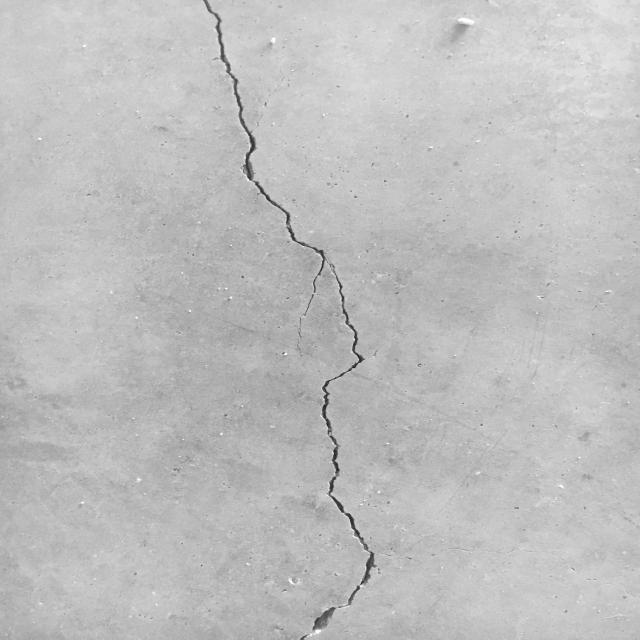SurfaceCrack: (162, 1, 401, 640)
